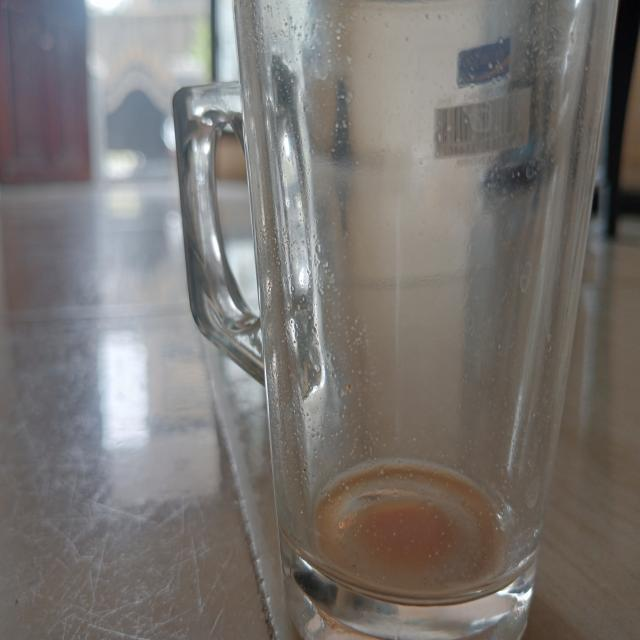glass-VX4N: (172, 5, 633, 640)
